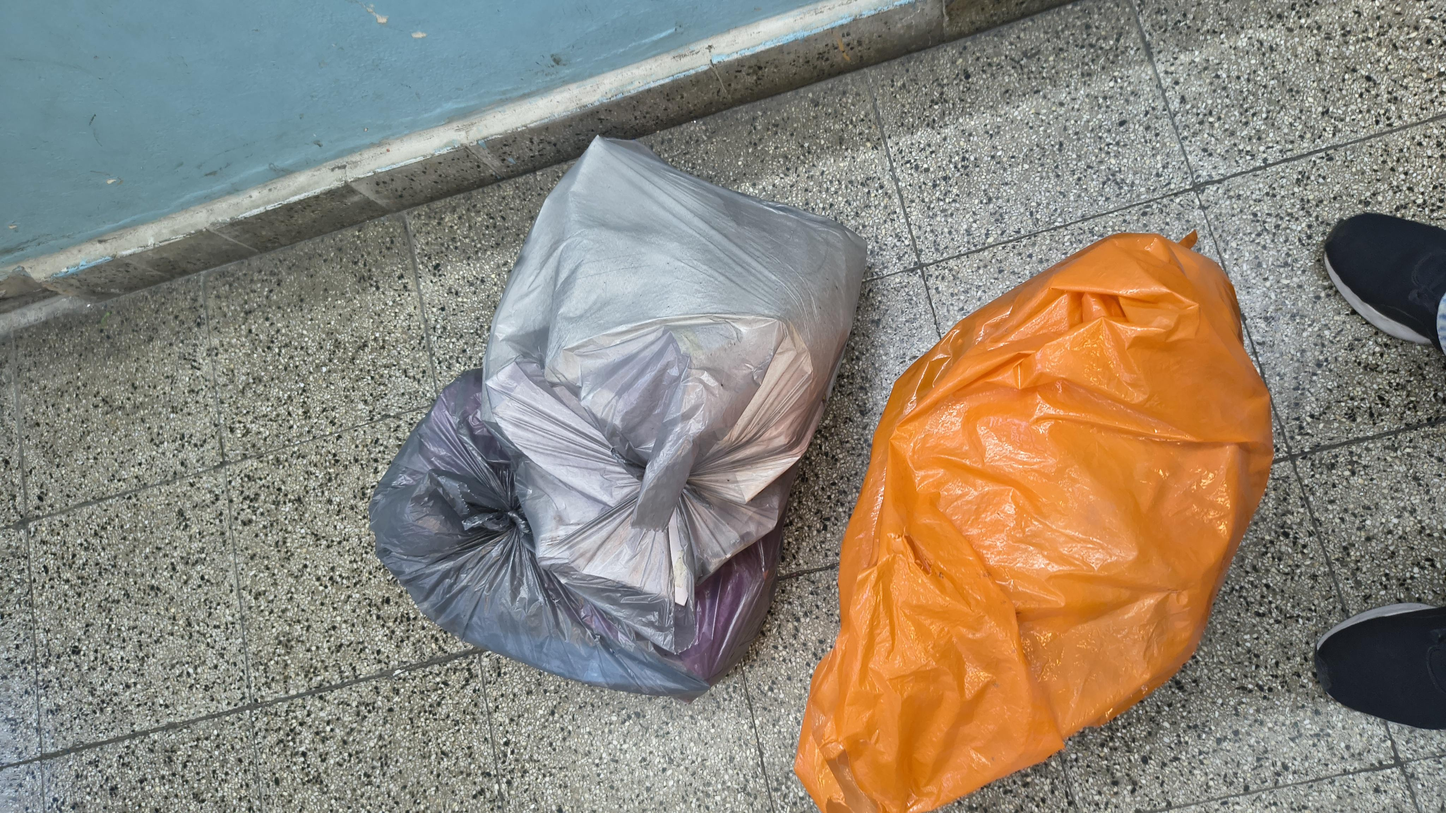Garbage: (0, 439, 1149, 744), (182, 189, 1218, 502)
